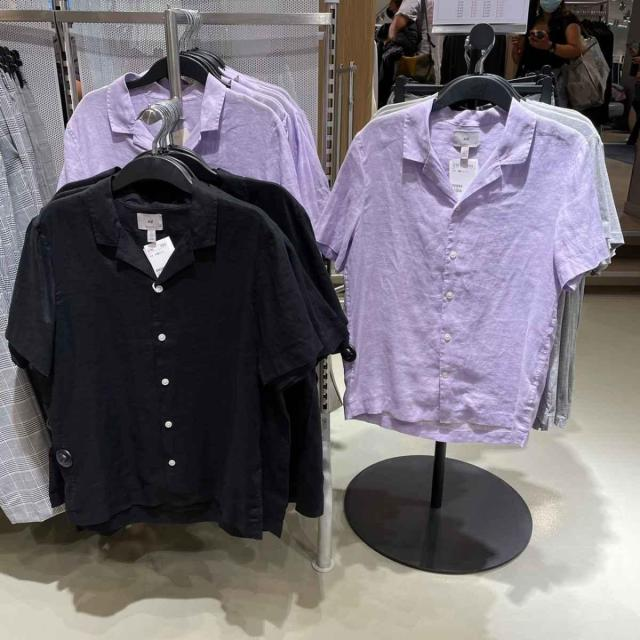shirt: (14, 175, 342, 522), (326, 86, 620, 443)
